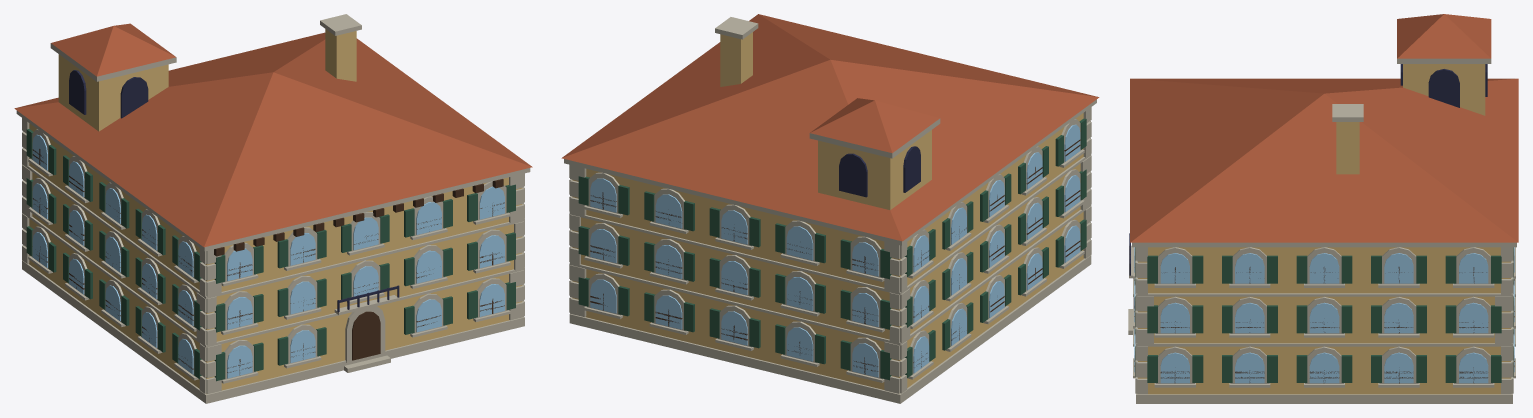
Rendered from house-2x2-3f-tuscan-a.glb.
3 views of the same model, side by side, from view 1: azimuth 30°, elevation 25°; view 2: azimuth 150°, elevation 25°; view 3: azimuth 270°, elevation 25° (orthographic). The views are drawn at different scales.
Parts seen in each view (by area): view 1: house-2x2-3f-tuscan-a; view 2: house-2x2-3f-tuscan-a; view 3: house-2x2-3f-tuscan-a.
Part boxes in pixels (x1,y1,x2,y2): house-2x2-3f-tuscan-a: (14,14,532,403); house-2x2-3f-tuscan-a: (561,14,1099,403); house-2x2-3f-tuscan-a: (1128,14,1518,403).
Bounding box in the file's own units: 1.98 × 1.46 × 1.99.
Materials: 1 (1 with a texture image).
